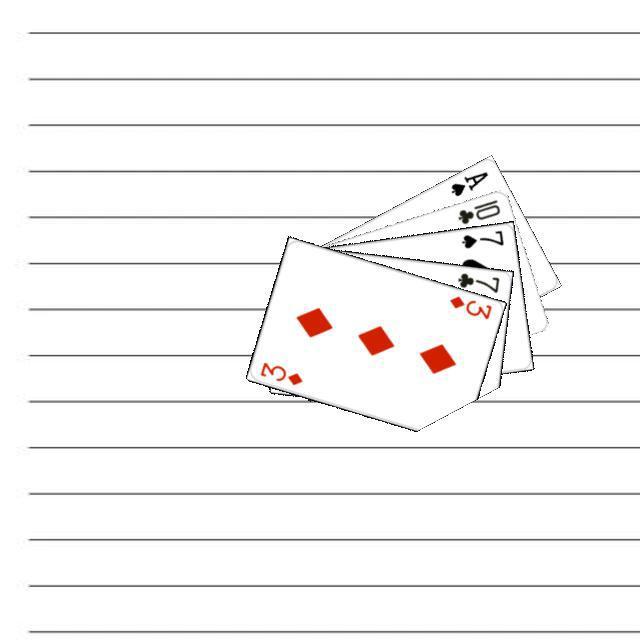10c: (453, 195, 502, 226)
3d: (255, 357, 304, 387), (445, 291, 493, 321)
7c: (453, 268, 501, 294)
7s: (457, 225, 505, 250)
As: (446, 167, 490, 198)
